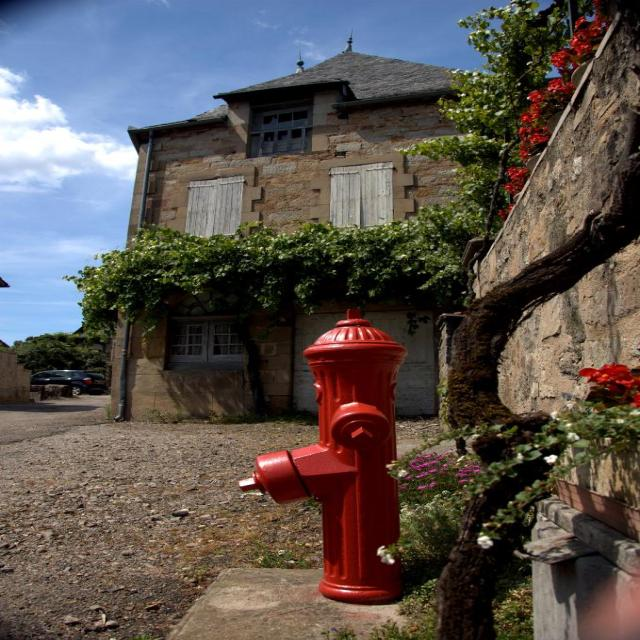fire_hydrant: (238, 309, 406, 606)
